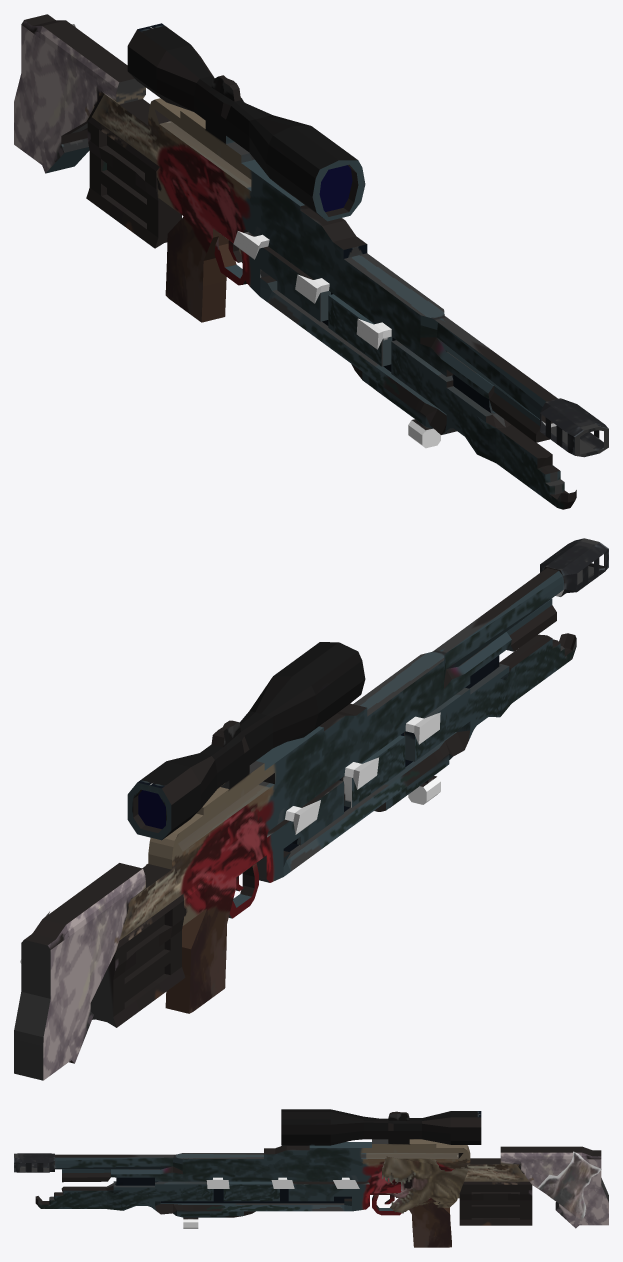
File: Sniper.fbx
3 renders of one model, top to bottom at view 1: azimuth 30°, elevation 25°; view 2: azimuth 150°, elevation 25°; view 3: azimuth 270°, elevation 25°, orthographic. The views are drawn at different scales.
Parts seen in each view (by area): view 1: Cube; view 2: Cube; view 3: Cube, Trex, 4x.
Part boxes in pixels (bbox=[...]): Cube: bbox=[14, 14, 608, 509]; Cube: bbox=[14, 538, 608, 1080]; Cube: bbox=[14, 1109, 608, 1247]; Trex: bbox=[382, 1156, 468, 1213]; 4x: bbox=[538, 1151, 601, 1221].
Size of the model in its own units: 32.23 by 124 by 505.
Materials: 3 (3 with a texture image).
